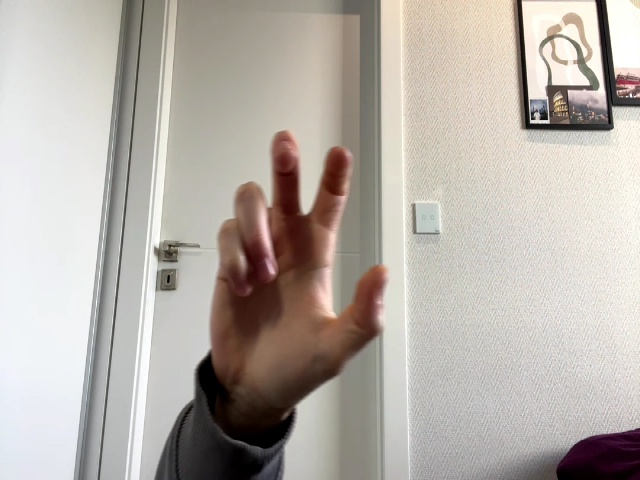CH: (210, 131, 388, 408)
